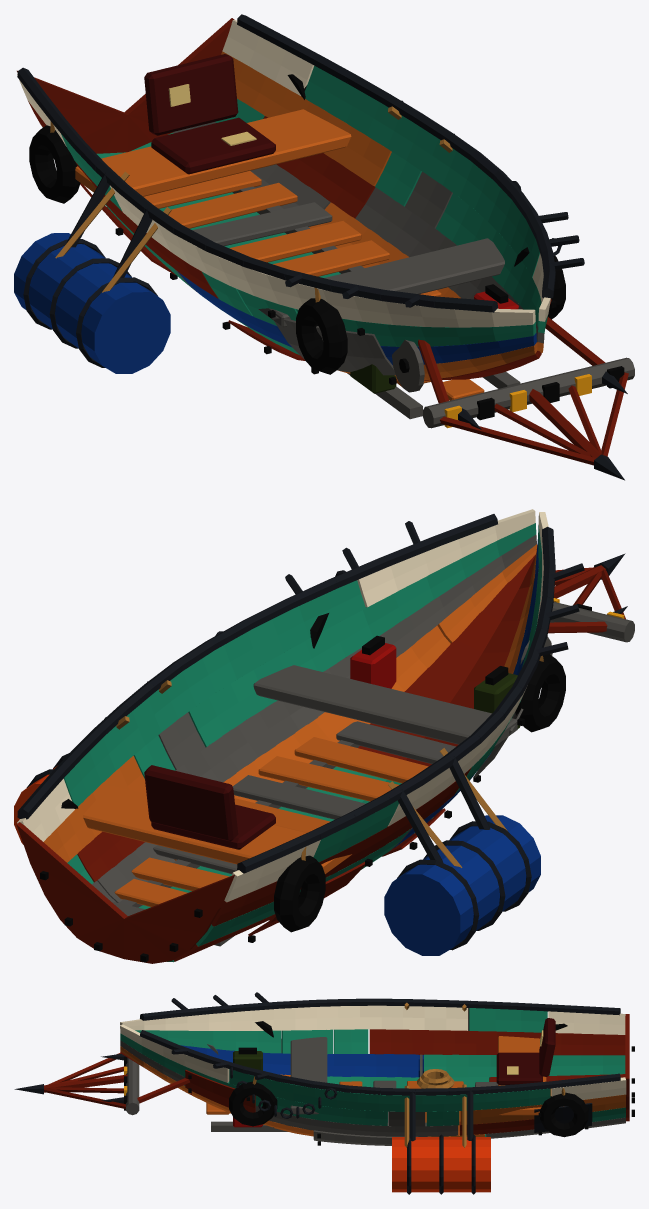
The model's file is tb_patchwork_skiff.glb.
The picture shows the model from 3 angles, top to bottom: view 1: azimuth 30°, elevation 25°; view 2: azimuth 150°, elevation 25°; view 3: azimuth 270°, elevation 25°; orthographic projection. The views are drawn at different scales.
Parts seen in each view (by area): view 1: tb_patchwork_skiff_mesh; view 2: tb_patchwork_skiff_mesh; view 3: tb_patchwork_skiff_mesh.
Boxes of the visible parts, bbox=[...] form: tb_patchwork_skiff_mesh: bbox=[14, 14, 634, 480]; tb_patchwork_skiff_mesh: bbox=[14, 509, 634, 963]; tb_patchwork_skiff_mesh: bbox=[14, 992, 634, 1194].
Bounding box in the file's own units: 2.81 × 1.1 × 5.39.
